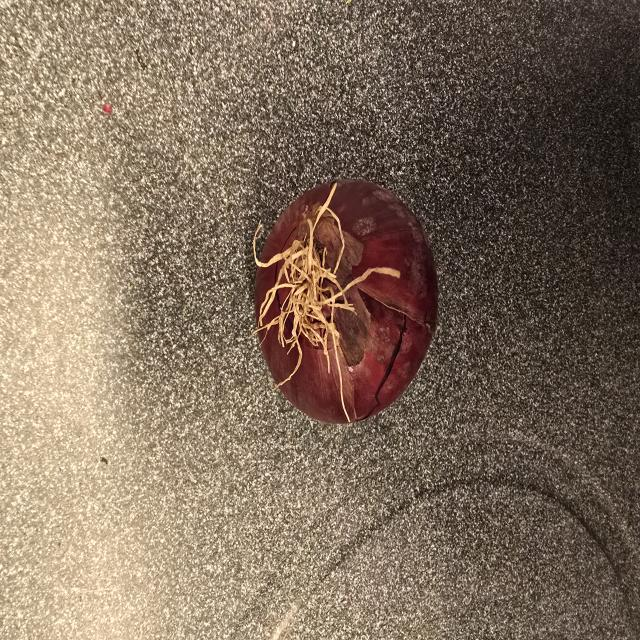Onion: (252, 180, 438, 423)
